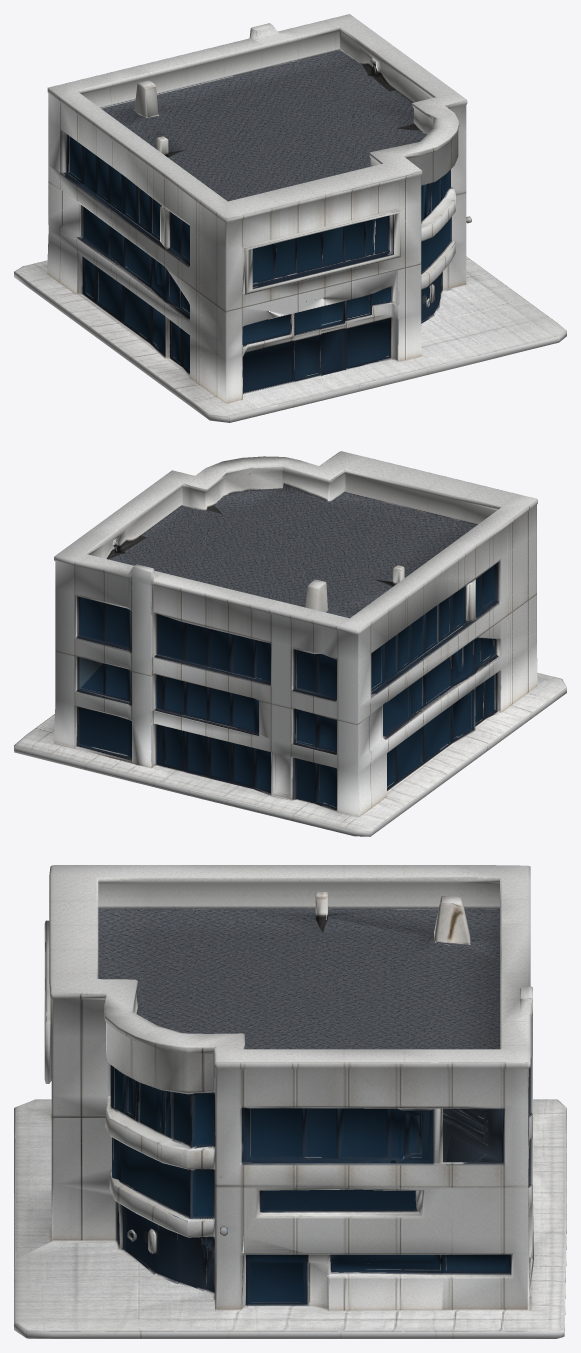
The model's file is office.glb.
The picture shows the model from 3 angles, top to bottom: view 1: azimuth 30°, elevation 25°; view 2: azimuth 150°, elevation 25°; view 3: azimuth 270°, elevation 25°; orthographic projection. The views are drawn at different scales.
Size of the model in its own units: 1.89 by 1.03 by 1.9.
Materials: 1 (1 with a texture image).
